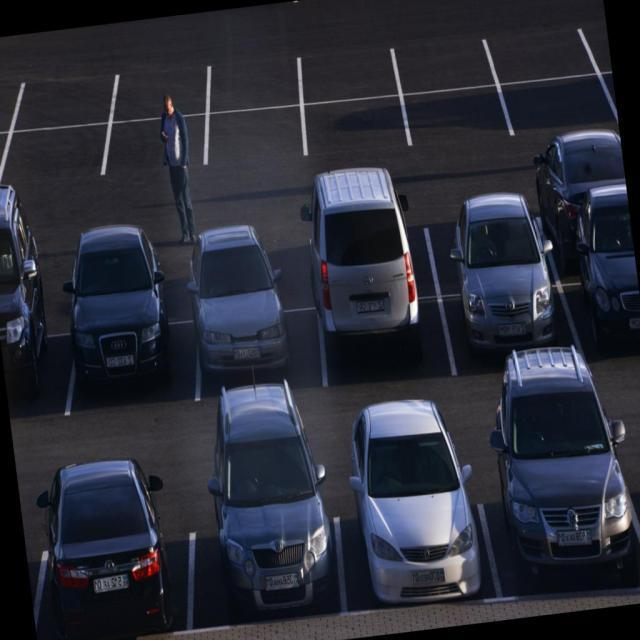car: (190, 476, 350, 640), (478, 461, 640, 616), (339, 472, 491, 627), (32, 516, 200, 640), (322, 292, 457, 390), (76, 308, 192, 414), (440, 286, 578, 374), (202, 303, 321, 394), (0, 321, 80, 408), (544, 212, 637, 284), (572, 279, 640, 363)
free: (317, 236, 438, 315), (208, 235, 320, 318), (428, 217, 542, 294), (90, 243, 194, 326), (8, 126, 104, 192), (108, 117, 200, 184), (115, 62, 207, 126), (18, 76, 114, 136), (207, 104, 300, 162), (404, 84, 502, 138), (305, 96, 405, 148), (0, 260, 78, 326), (512, 75, 612, 126), (204, 55, 294, 108), (498, 28, 587, 80), (402, 37, 488, 89), (300, 53, 388, 98)
